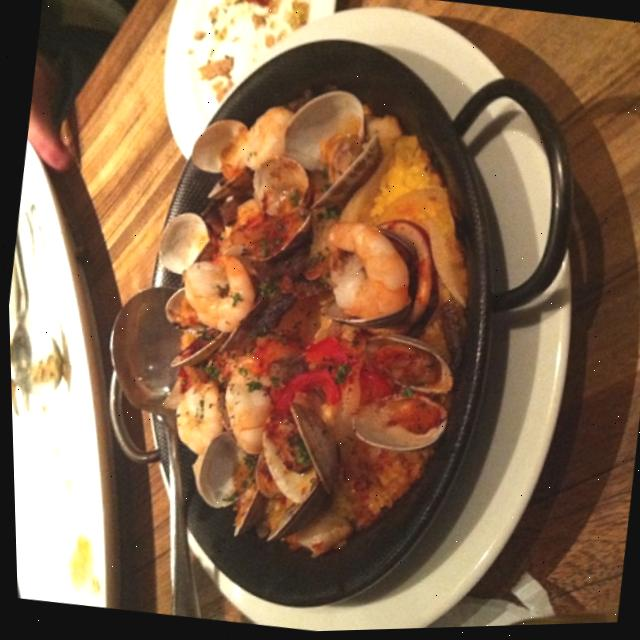汤锅炖物: (103, 0, 610, 638)
